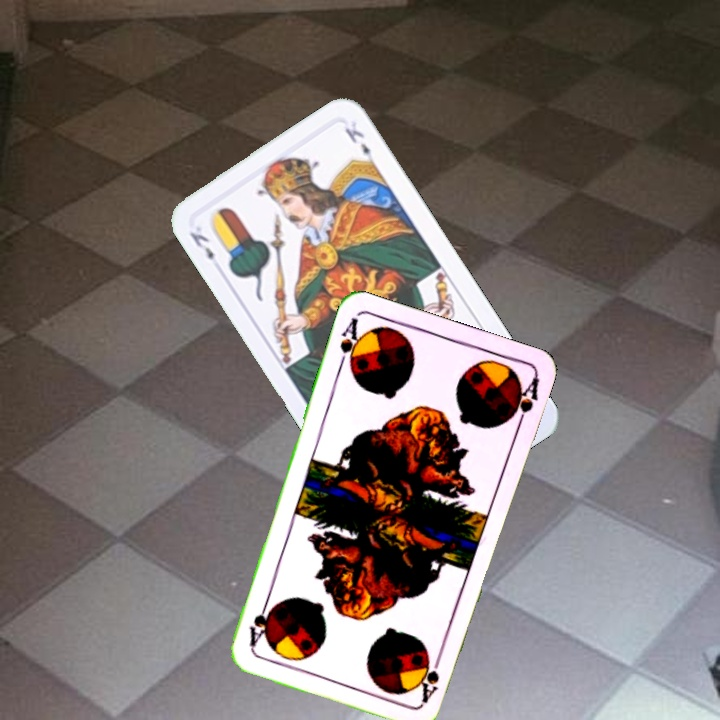EK: (185, 227, 217, 263)
SA: (334, 313, 366, 375), (417, 647, 446, 705)
